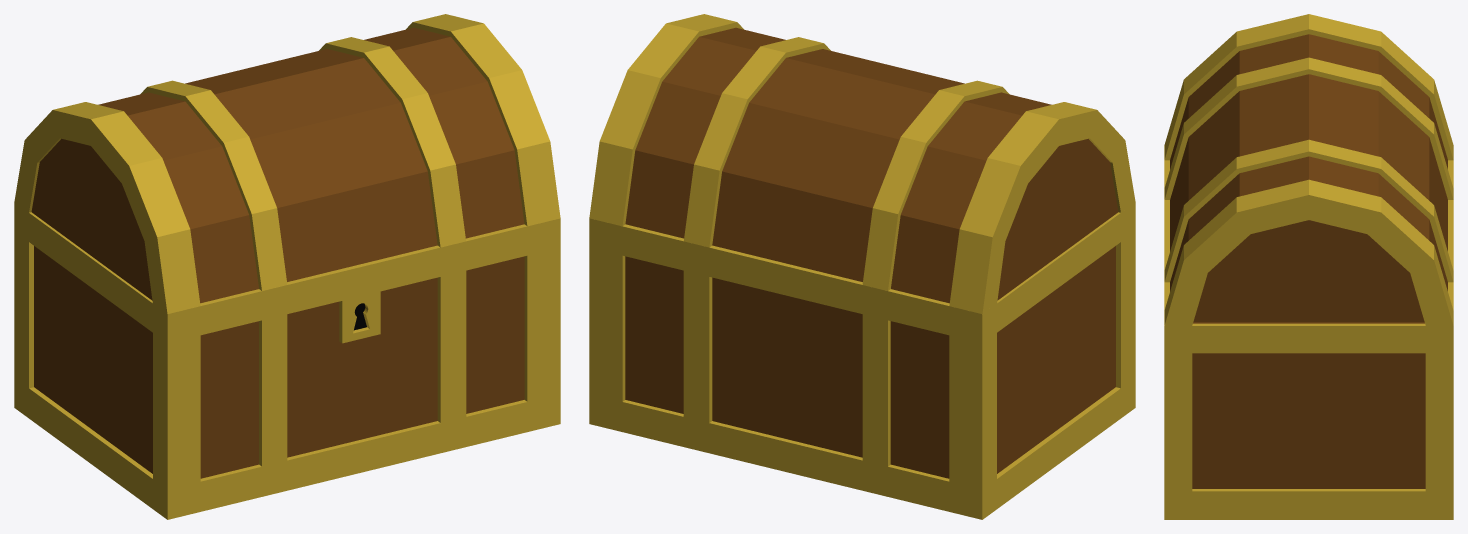
The model's file is Chest.fbx.
3 renders of one model, left to right at view 1: azimuth 30°, elevation 25°; view 2: azimuth 150°, elevation 25°; view 3: azimuth 270°, elevation 25°, orthographic. The views are drawn at different scales.
Visible parts, largest first — view 1: Chest; view 2: Chest; view 3: Chest.
Part boxes in pixels (<box>): Chest: <box>14,14,560,519</box>; Chest: <box>589,14,1135,519</box>; Chest: <box>1164,14,1453,519</box>.
Bounding box in the file's own units: 76.99 × 64.48 × 51.97.
